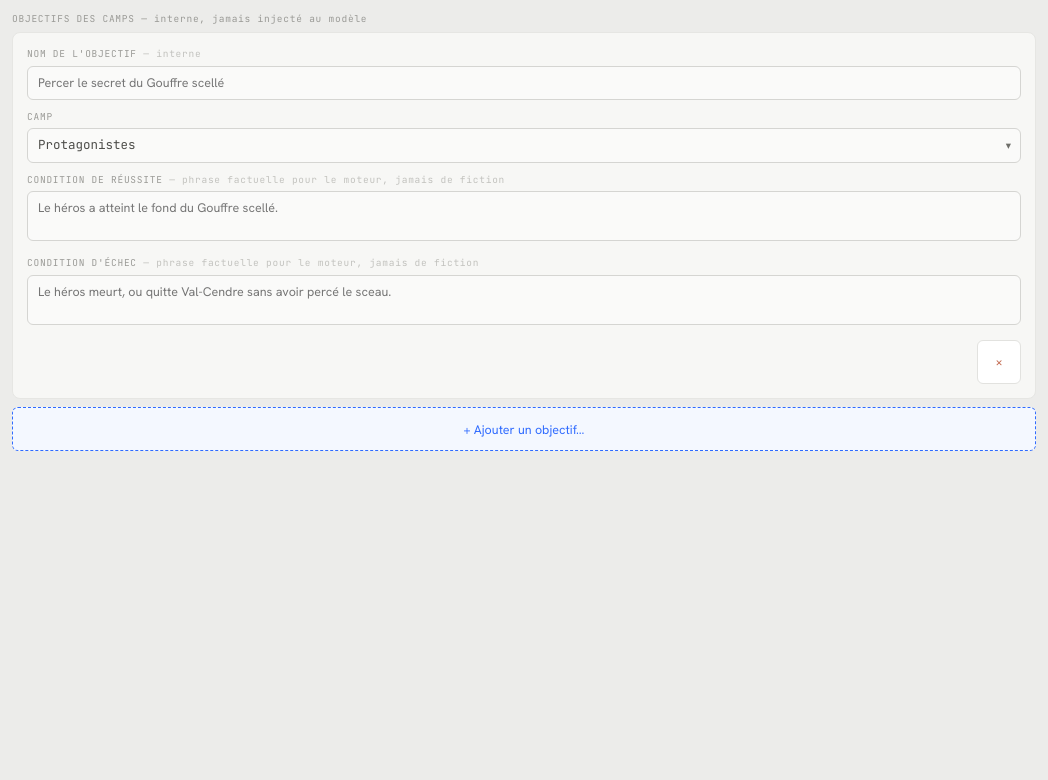
ObjectifsCanon › retirer un objectif reference par un personnage est refuse: objectif conserve, bandeau de refus role status
Click the button named "Retirer l'objectif n°1".
click(999, 362)  # box [977, 340, 1021, 384]
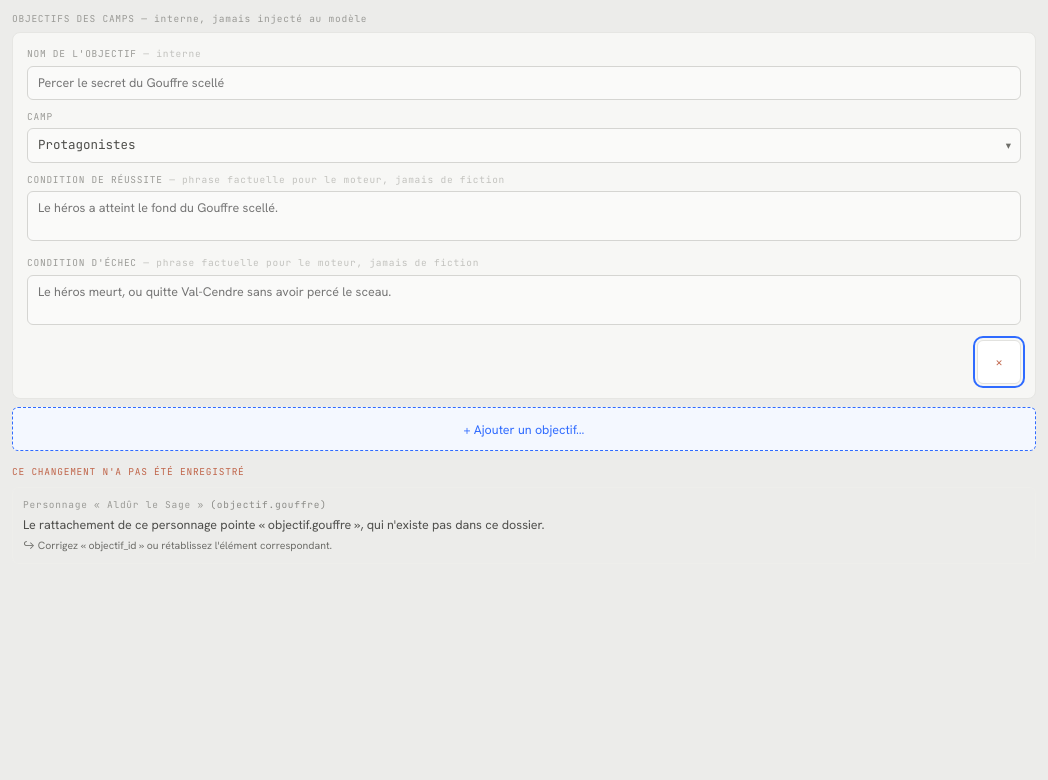
Check: the message shows "CE CHANGEMENT N'A PAS ÉTÉ ENREGISTRÉ", box [12, 465, 245, 478]
Check: the message shows "Aldûr le Sage", box [23, 498, 204, 511]
Check: the message shows "objectif_id", box [23, 538, 332, 552]
